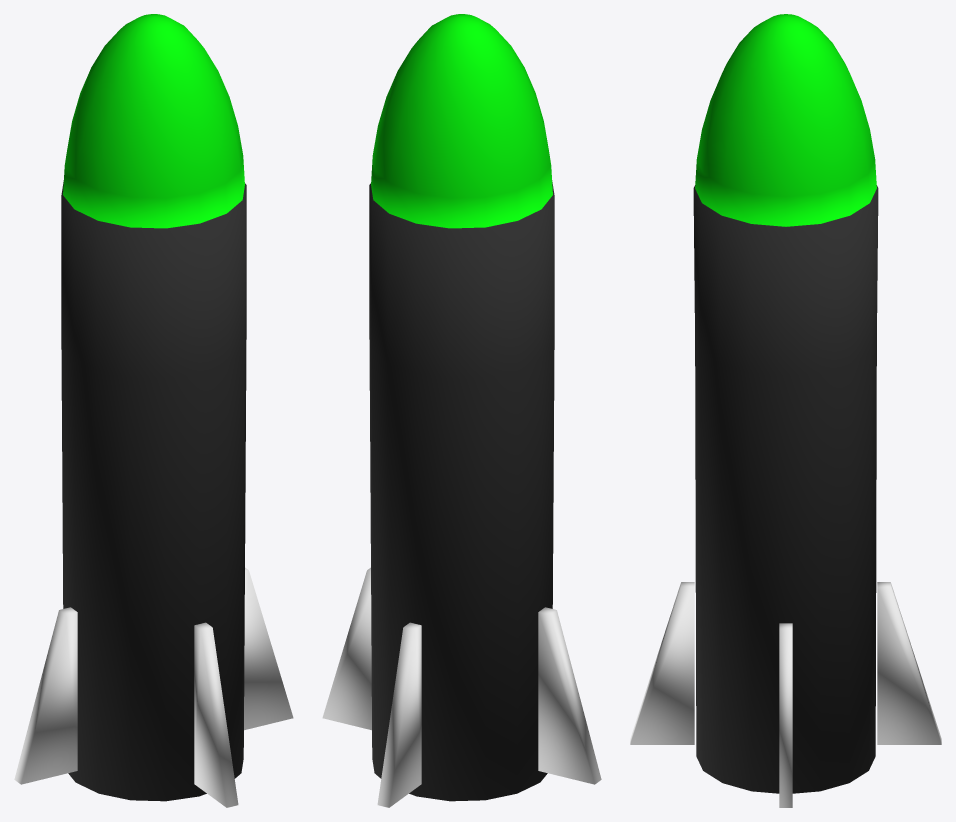
File: Missile_1.fbx
3 views of the same model, side by side, from view 1: azimuth 30°, elevation 25°; view 2: azimuth 150°, elevation 25°; view 3: azimuth 270°, elevation 25° (orthographic).
Visible parts, largest first — view 1: 球, 立方体.002, 立方体.001; view 2: 球, 立方体.002, 立方体.001; view 3: 球, 立方体.001, 立方体.002.
Part boxes in pixels (x1,y1,x2,y2): 球: (61, 14, 246, 801); 立方体.002: (14, 567, 293, 784); 立方体.001: (194, 622, 238, 807); 球: (369, 14, 554, 801); 立方体.002: (322, 567, 601, 784); 立方体.001: (377, 622, 421, 807); 球: (693, 14, 878, 793); 立方体.001: (630, 582, 941, 744); 立方体.002: (779, 623, 792, 807).
Size of the model in its own units: 0.6823 by 1.79 by 0.6823.
